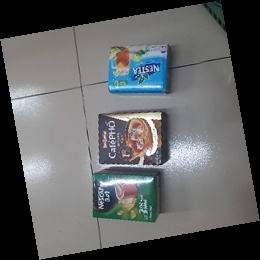CF pho: (97, 110, 169, 166)
Nes Rang: (90, 171, 163, 224)
Nestea: (108, 44, 172, 94)
